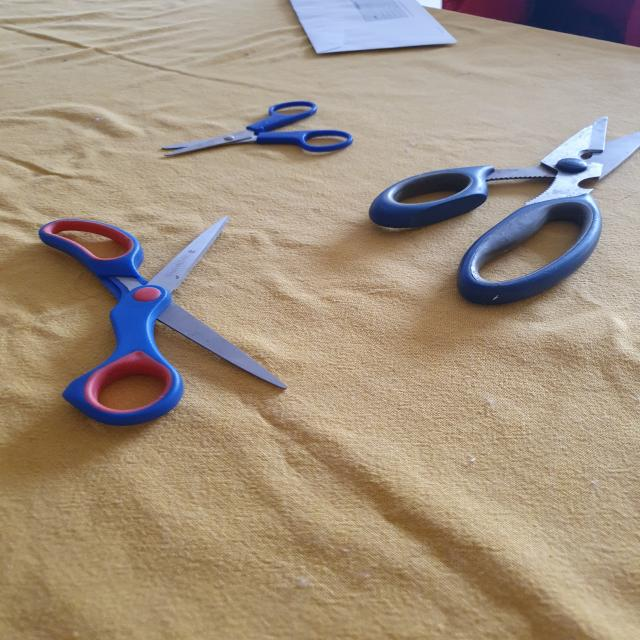scissors: (34, 215, 297, 427), (364, 120, 640, 305), (159, 99, 358, 164)
